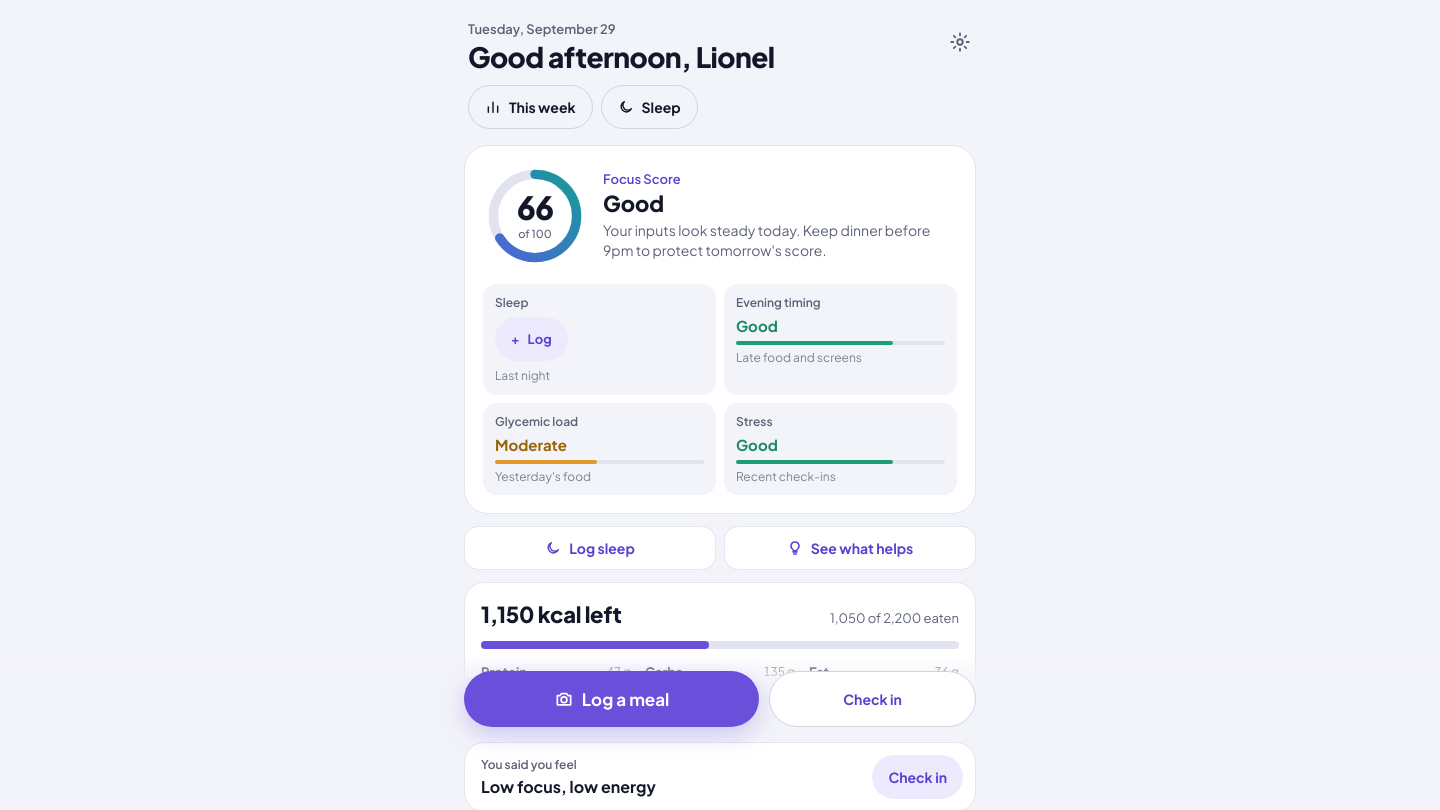
Test case: Today › logs sleep and refreshes the Focus Score
Click the button with aria-label "Log sleep" at coordinates (531, 339), box [495,317,568,361]
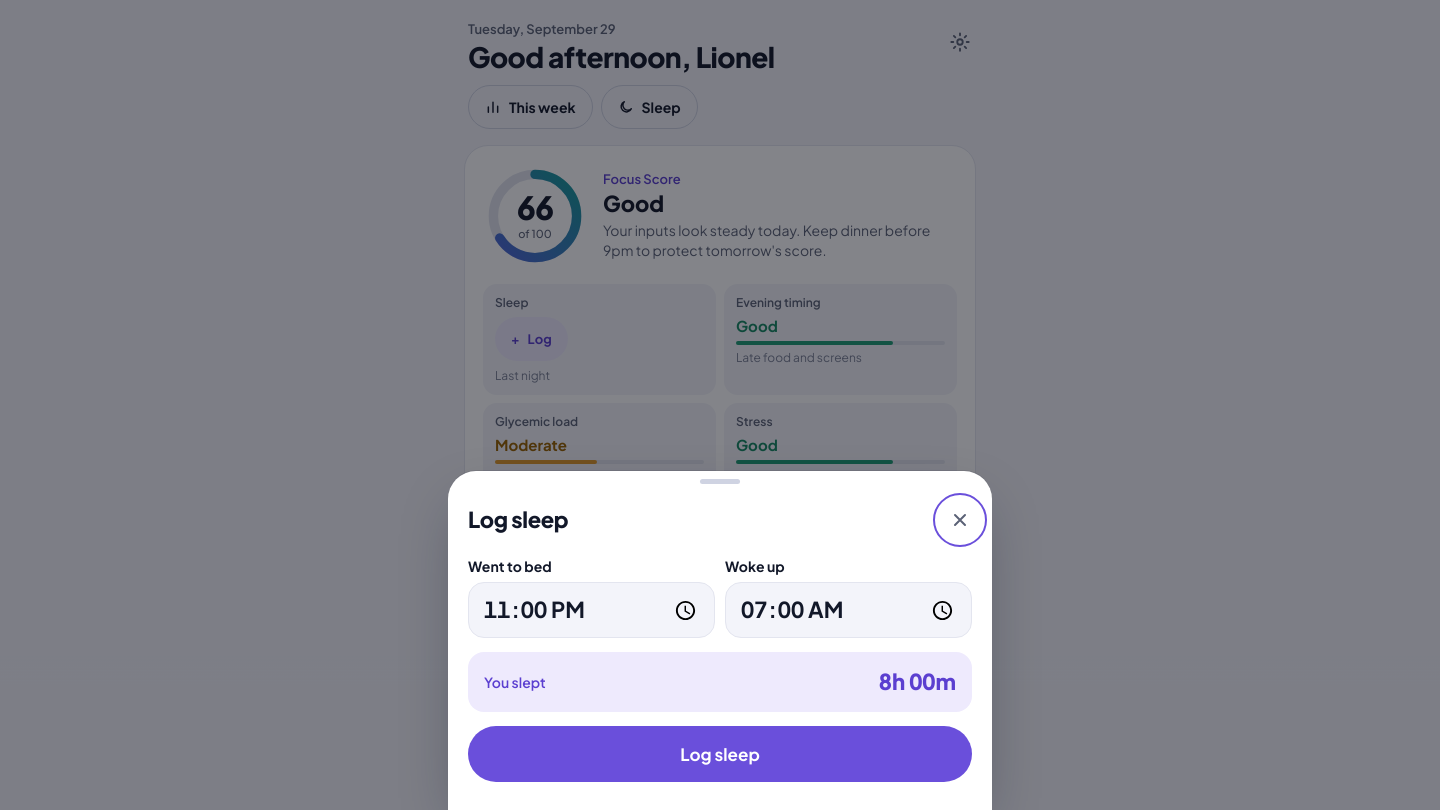
Replace the text in the time field labelled "Went to bed" with "22:00" at coordinates (592, 610), box [468,582,715,638]
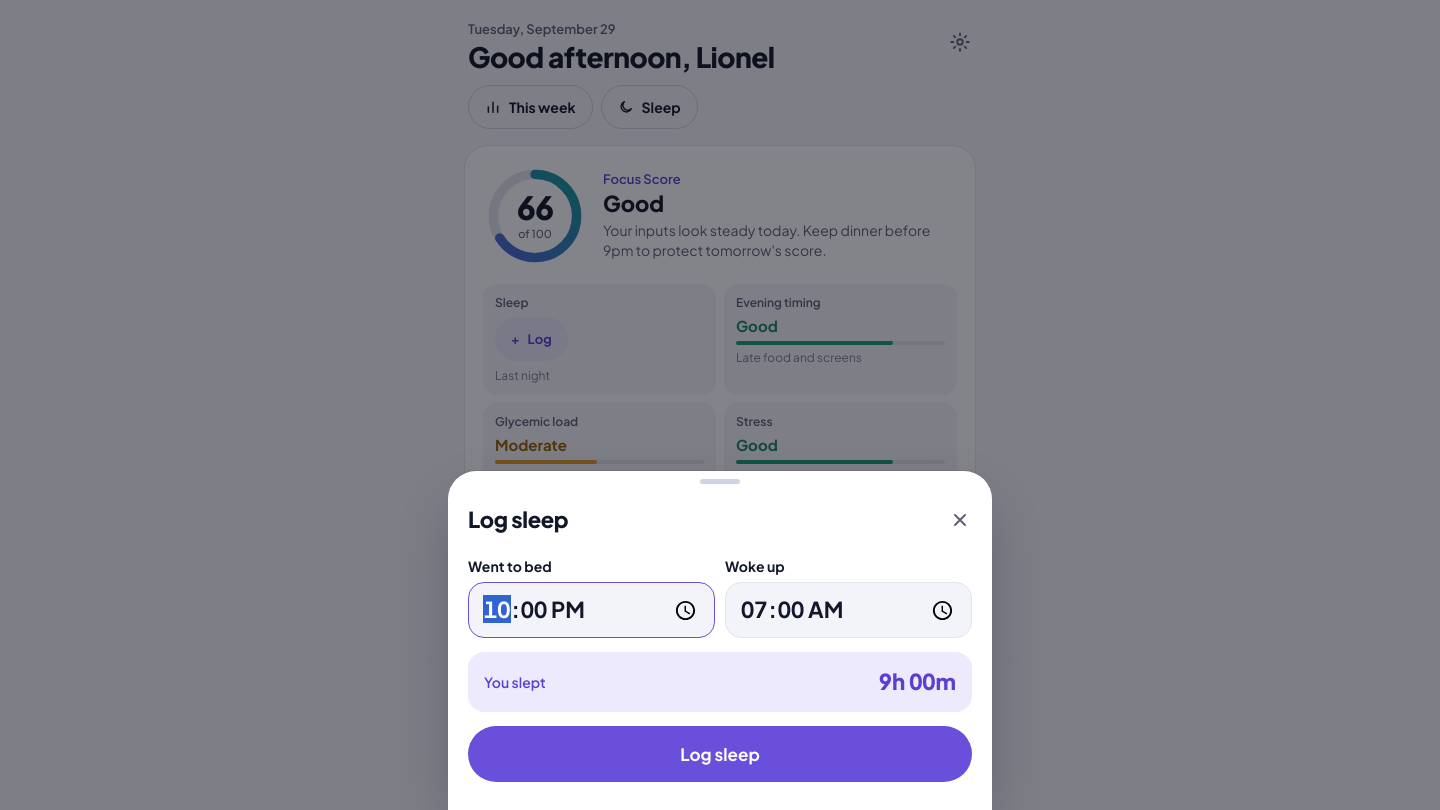
Replace the text in the time field labelled "Woke up" with "06:00" at coordinates (848, 610), box [725,582,972,638]
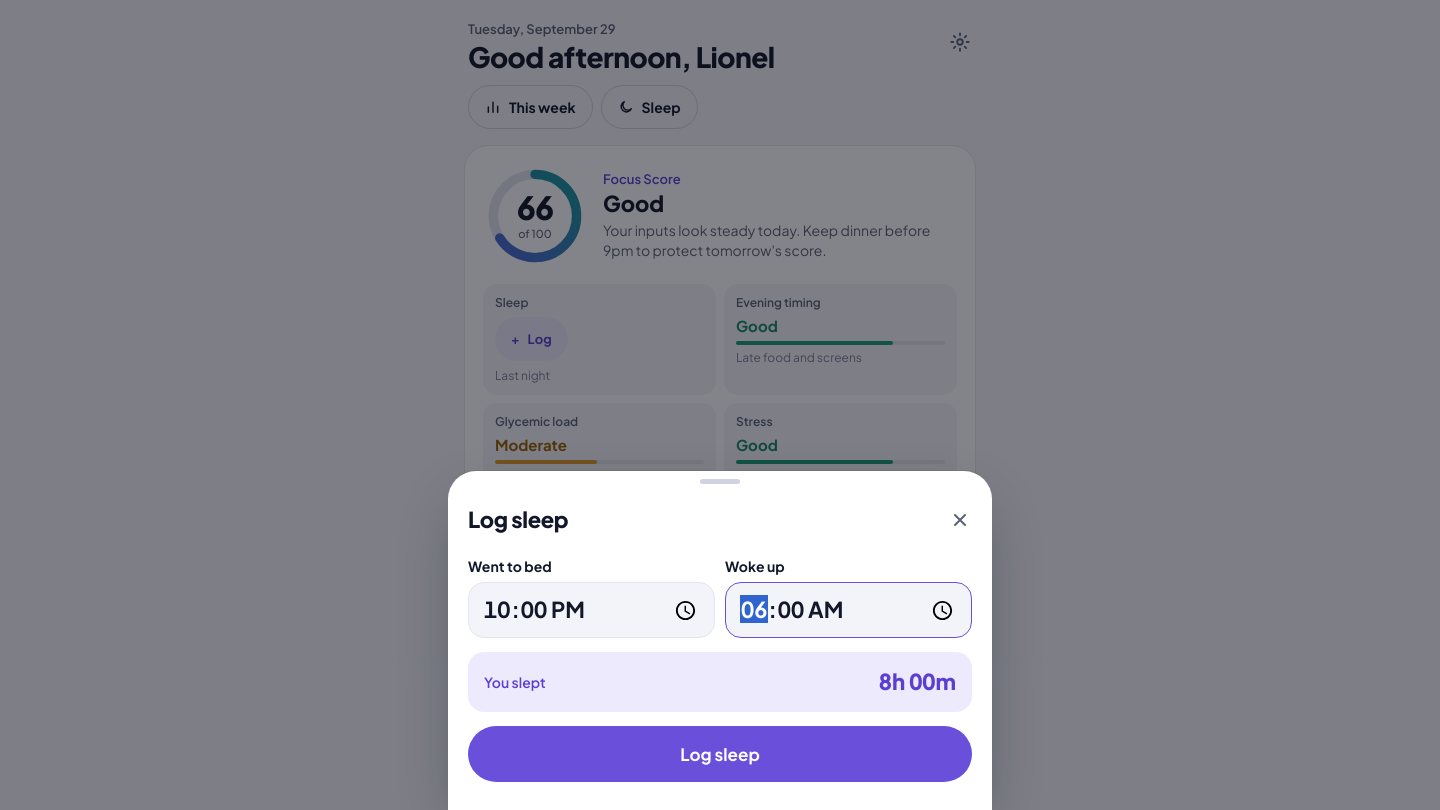
expect the text "8h 00m" is shown: met, box [879,666,956,698]
Click the button "Log sleep" at coordinates (720, 754), box [468,726,972,782]
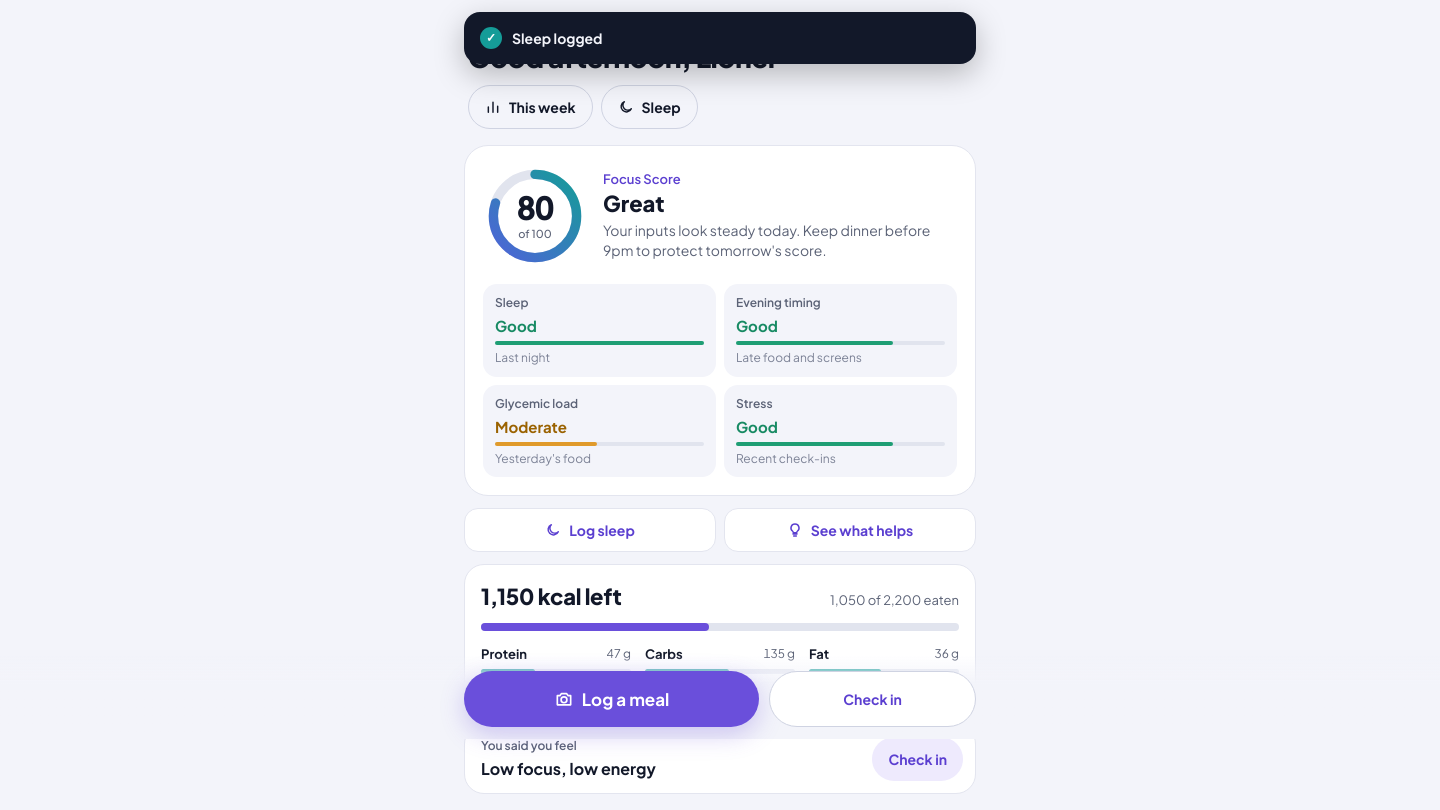
expect the text "Sleep logged" is shown: met, box [512,29,602,47]
